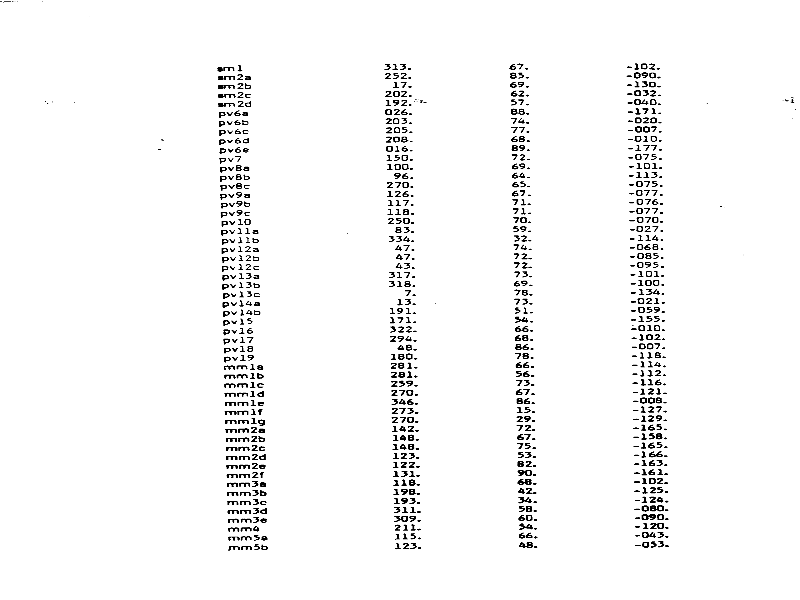table: (213, 59, 706, 568)
